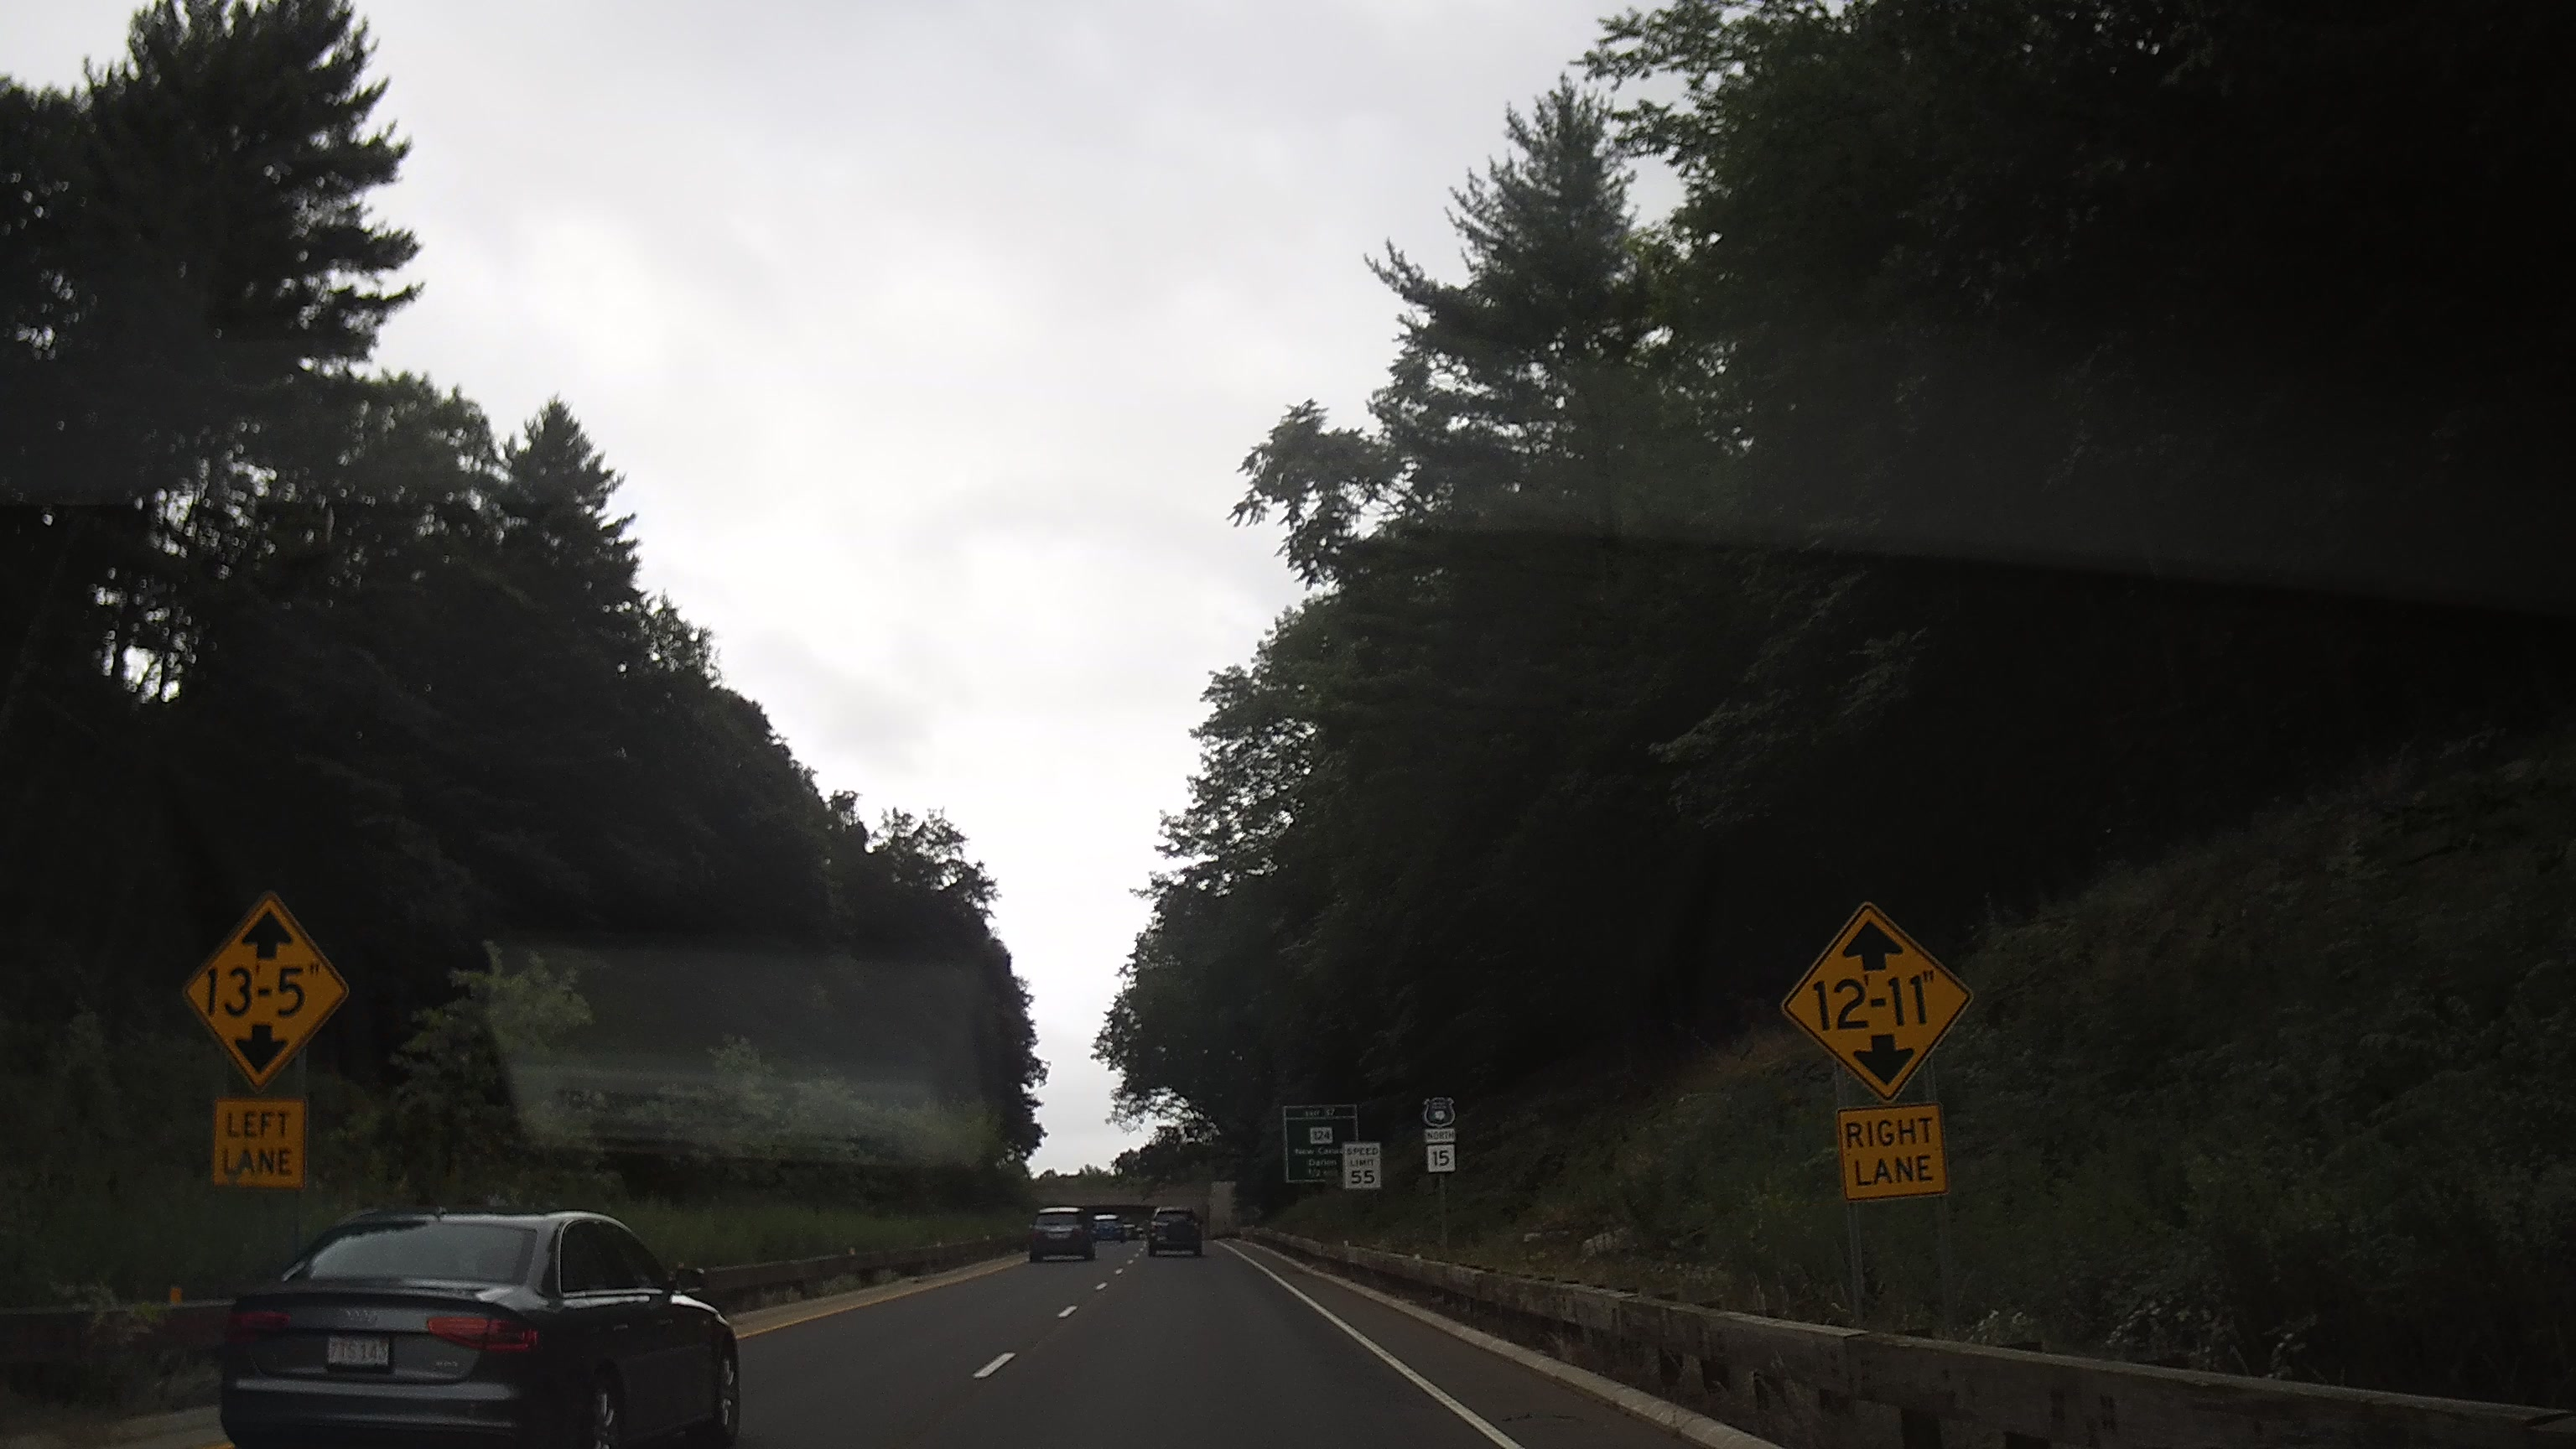low-clearance-sign: (1780, 902, 1974, 1104), (180, 888, 350, 1093)
